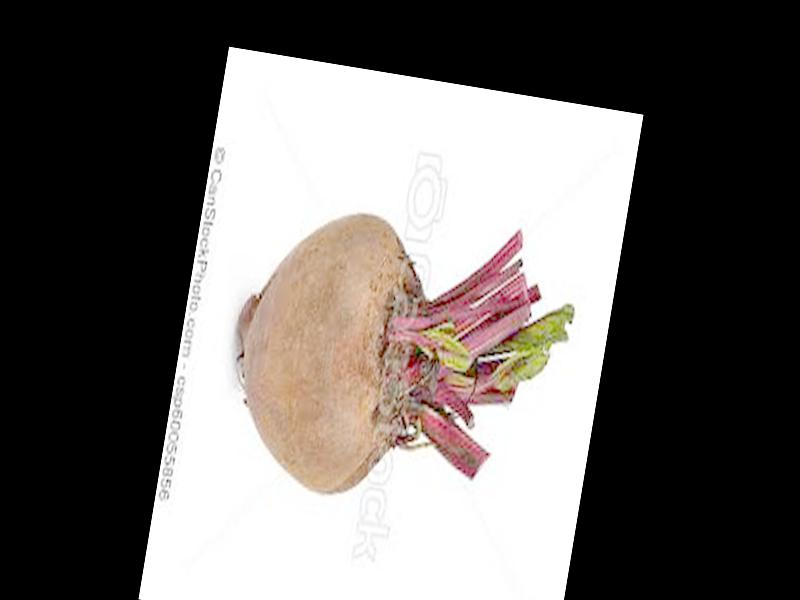Beet: (213, 188, 585, 531)
